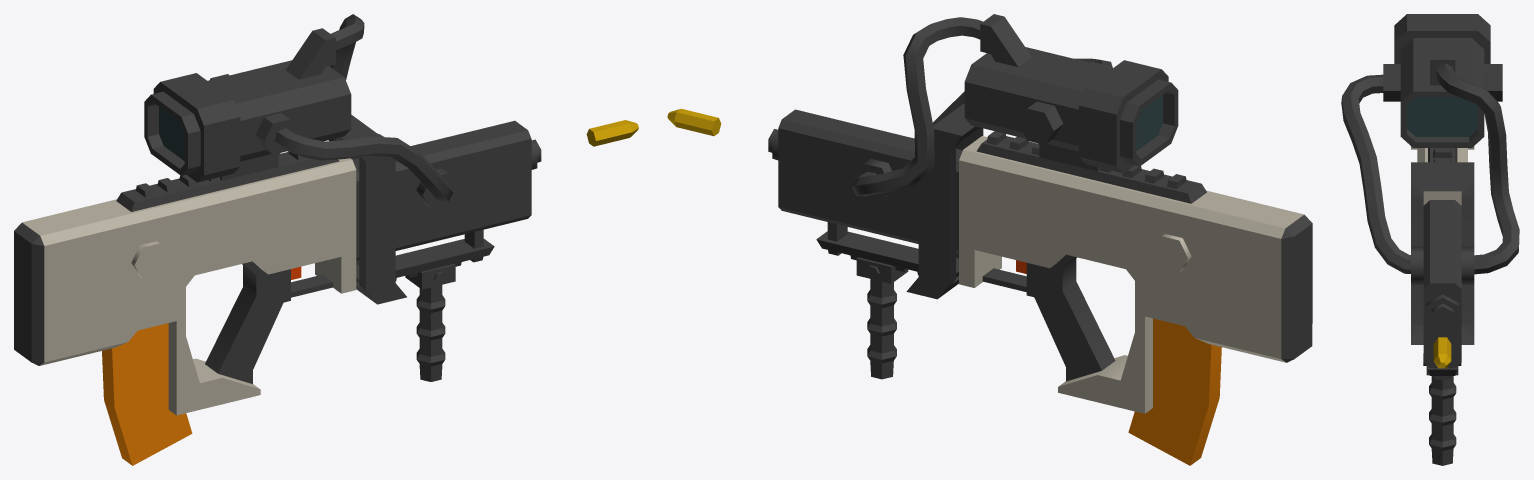
The model's file is scene_987143Weft.glb.
3 views of the same model, side by side, from view 1: azimuth 30°, elevation 25°; view 2: azimuth 150°, elevation 25°; view 3: azimuth 270°, elevation 25° (orthographic). The views are drawn at different scales.
Parts seen in each view (by area): view 1: Line1305, gun_acc_sign_023, Rectangle396, Line1308, Line1309, Line1306, Freehand001, gun_acc_handle_008, Rectangle397, Line1310, Rectangle399, Freehand002 (+4 smaller); view 2: Line1305, gun_acc_sign_023, Rectangle396, Line1308, Line1309, Line1306, Freehand002, gun_acc_handle_008, Rectangle397, Line1310, Rectangle399, Box11137 (+3 smaller); view 3: gun_acc_sign_023, Rectangle396, Line1309, Freehand002, Freehand001, gun_acc_handle_008, Cylinder1178, Line1305, Cylinder1180, gun_bullet2_076, Cylinder1179, Line1310 (+3 smaller).
Part boxes in pixels (x1,y1,x2,y2): Line1305: [14, 158, 356, 415]; gun_acc_sign_023: [144, 60, 351, 182]; Rectangle396: [353, 120, 531, 260]; Line1308: [102, 323, 192, 465]; Line1309: [333, 115, 406, 304]; Line1306: [205, 261, 290, 383]; Freehand001: [274, 128, 453, 201]; gun_acc_handle_008: [405, 264, 455, 381]; Rectangle397: [116, 152, 339, 211]; Line1310: [220, 28, 335, 180]; Rectangle399: [356, 239, 494, 283]; Freehand002: [328, 14, 383, 141]; Line1305: [959, 136, 1312, 413]; gun_acc_sign_023: [964, 47, 1178, 173]; Rectangle396: [778, 109, 962, 253]; Line1308: [1128, 318, 1221, 465]; Line1309: [906, 103, 983, 299]; Line1306: [1026, 255, 1115, 381]; Freehand002: [851, 17, 982, 196]; gun_acc_handle_008: [856, 257, 908, 379]; Rectangle397: [976, 136, 1206, 203]; Line1310: [980, 14, 1099, 171]; Rectangle399: [816, 231, 958, 277]; Box11137: [987, 131, 1186, 188]; gun_acc_sign_023: [1383, 14, 1502, 147]; Rectangle396: [1423, 200, 1461, 368]; Line1309: [1411, 162, 1474, 344]; Freehand002: [1436, 63, 1519, 274]; Freehand001: [1341, 74, 1410, 273]; gun_acc_handle_008: [1423, 353, 1461, 465]; Cylinder1178: [1411, 246, 1474, 284]; Line1305: [1417, 148, 1467, 205]; Cylinder1180: [1426, 294, 1458, 331]; gun_bullet2_076: [1433, 337, 1451, 368]; Cylinder1179: [1431, 303, 1453, 329]; Line1310: [1430, 55, 1455, 85].
Size of the model in its own units: 1.07 by 0.6345 by 0.2816.
